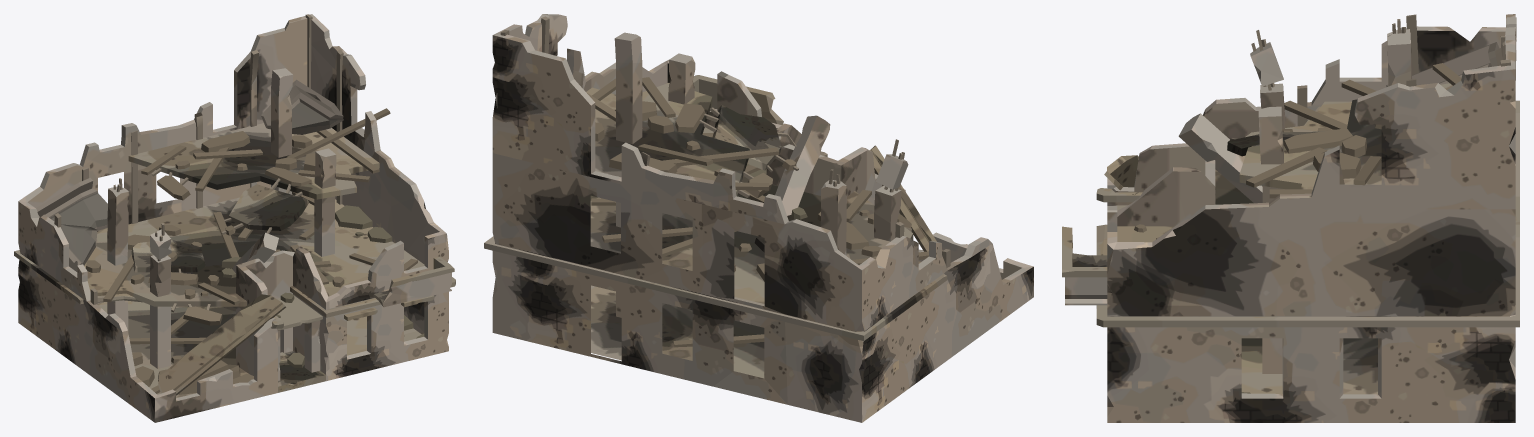
The model's file is SM_Bld_Destroyed_01.glb.
3 views of the same model, side by side, from view 1: azimuth 30°, elevation 25°; view 2: azimuth 150°, elevation 25°; view 3: azimuth 270°, elevation 25° (orthographic). The views are drawn at different scales.
Visible parts, largest first — view 1: SM_Bld_Destroyed_01; view 2: SM_Bld_Destroyed_01; view 3: SM_Bld_Destroyed_01.
Boxes of the visible parts, x1,y1,x2,y2 form: SM_Bld_Destroyed_01: (14,14,455,422); SM_Bld_Destroyed_01: (484,14,1033,422); SM_Bld_Destroyed_01: (1062,14,1519,422).
Size of the model in its own units: 14.11 by 10.05 by 11.66.
1 material, 1 textured.
